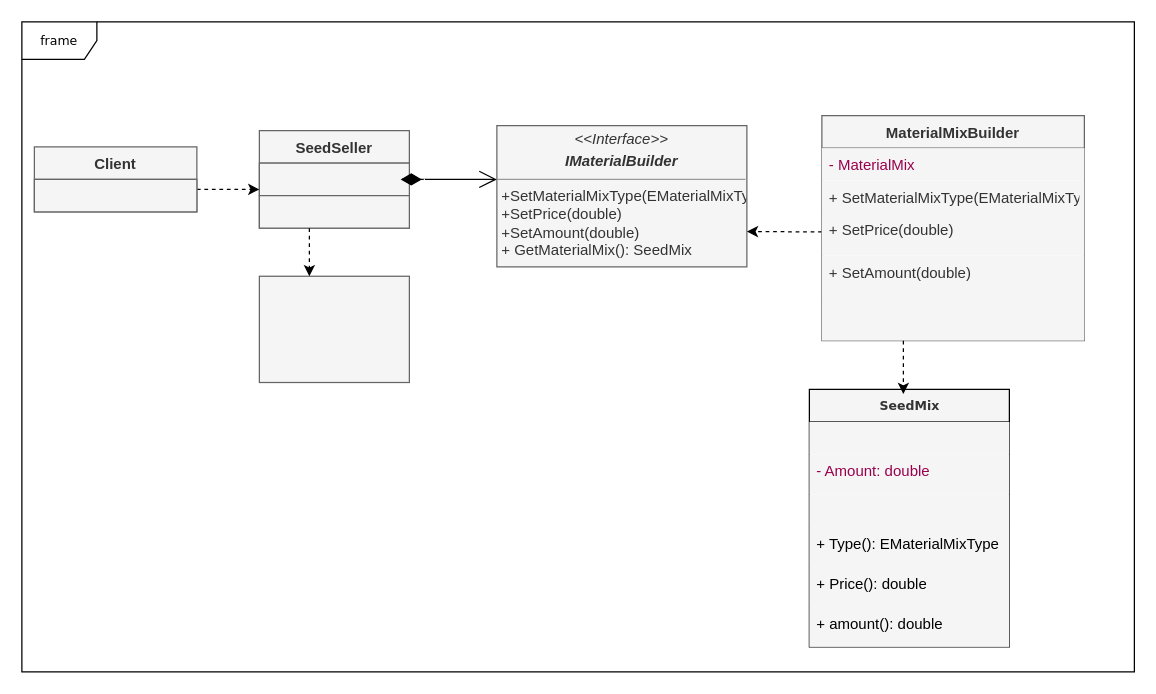
Some shapes in this 1156 by 694 pixel diagram are drawn without their labels. The shapes that lost their labels are listed below. From the top down, each one's centre as x and y in pixels, then its label:
At [115,195]: "IMaterialMixBuilder".
At [333,179]: "+ Construct()".
At [333,211]: "+ GetResult()".
At [333,328]: "<<enumeration>> EMaterialMixType EWood EGlass EIron".
At [952,319]: "+ GetMaterialMix(): MaterialMix".
At [909,437]: "- EMaterialMixType: Type".
At [909,510]: "- Price: double".
